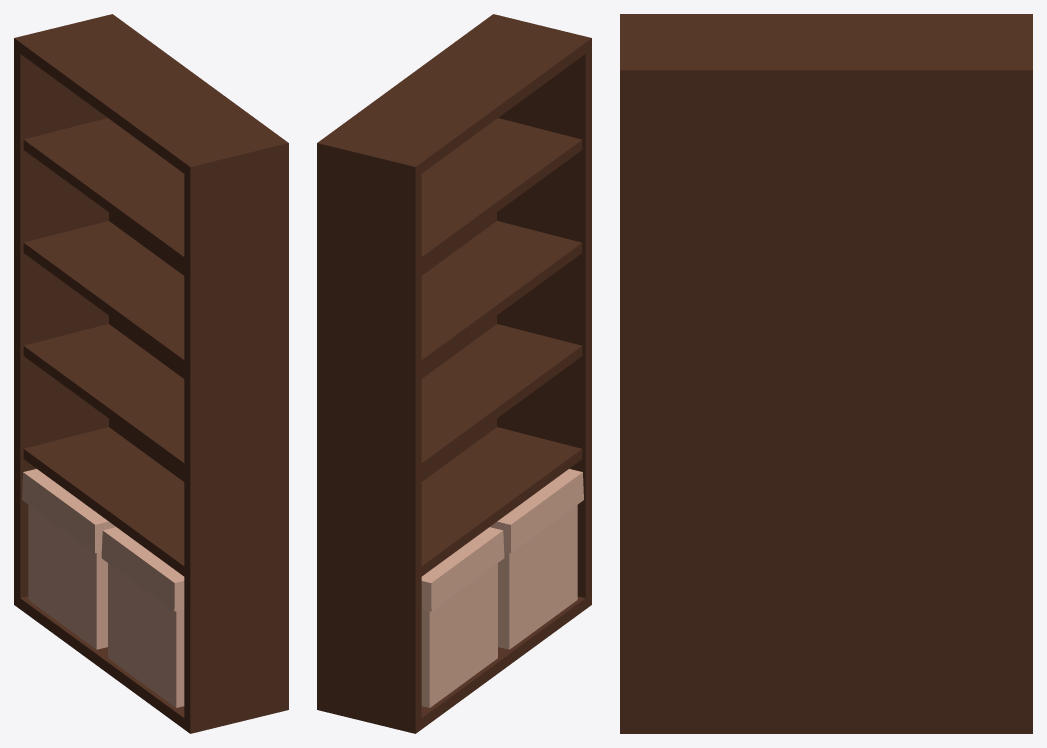
Rendered from furniture_decor_210006.glb.
3 renders of one model, left to right at view 1: azimuth 30°, elevation 25°; view 2: azimuth 150°, elevation 25°; view 3: azimuth 270°, elevation 25°, orthographic. The views are drawn at different scales.
Visible parts, largest first — view 1: furniture_decor_210006; view 2: furniture_decor_210006; view 3: furniture_decor_210006.
Boxes of the visible parts, box(x1,y1,x2,y2) form: furniture_decor_210006: box(14, 14, 288, 733); furniture_decor_210006: box(317, 14, 591, 733); furniture_decor_210006: box(620, 14, 1032, 733).
Bounding box in the file's own units: 0.3124 × 1.65 × 0.93.
Materials: 1 (1 with a texture image).
